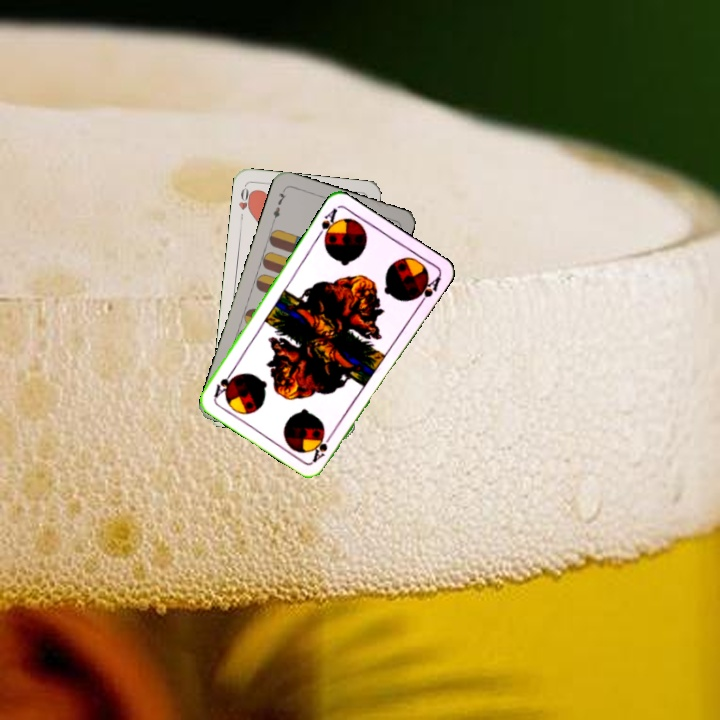E7: (268, 185, 288, 225)
HO: (234, 183, 255, 223)
SA: (313, 204, 341, 244), (308, 428, 337, 465)
